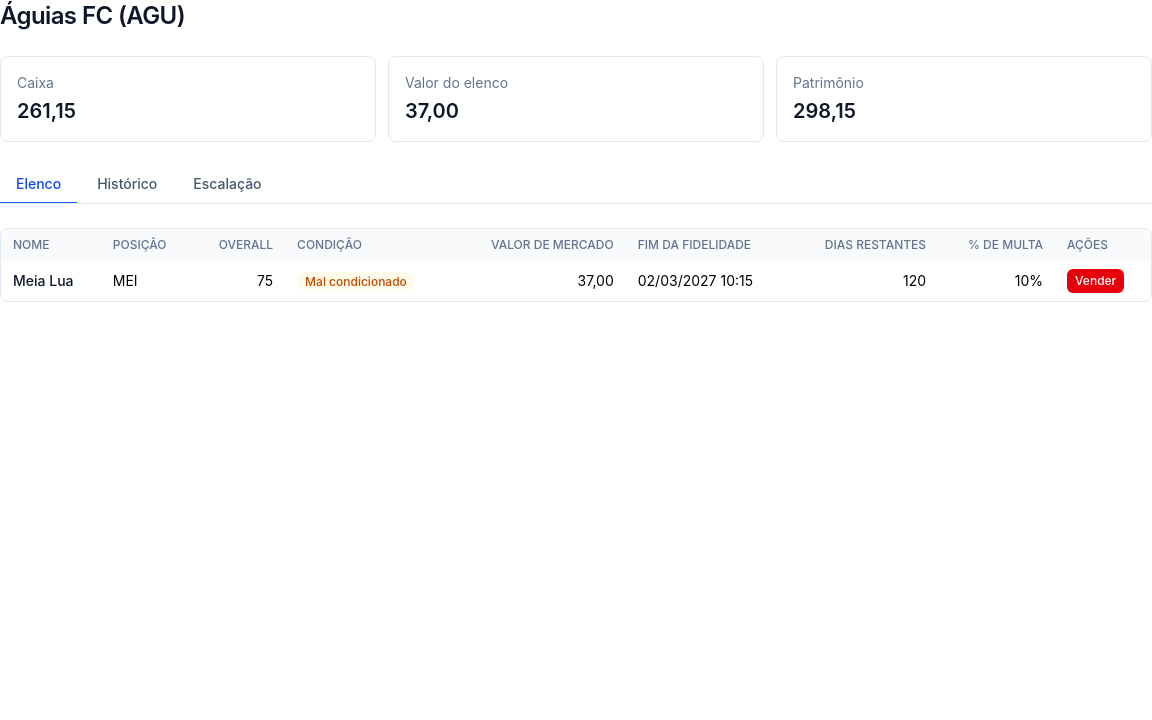
it: ClubPage › vende depois da confirmação, com um só pedido, e mostra o resultado da API
What coordinates should you click on to do the following:
click the button "Vender"
I would click on:
 (1096, 281)
Its box is top-left (1067, 269), bottom-right (1124, 293).
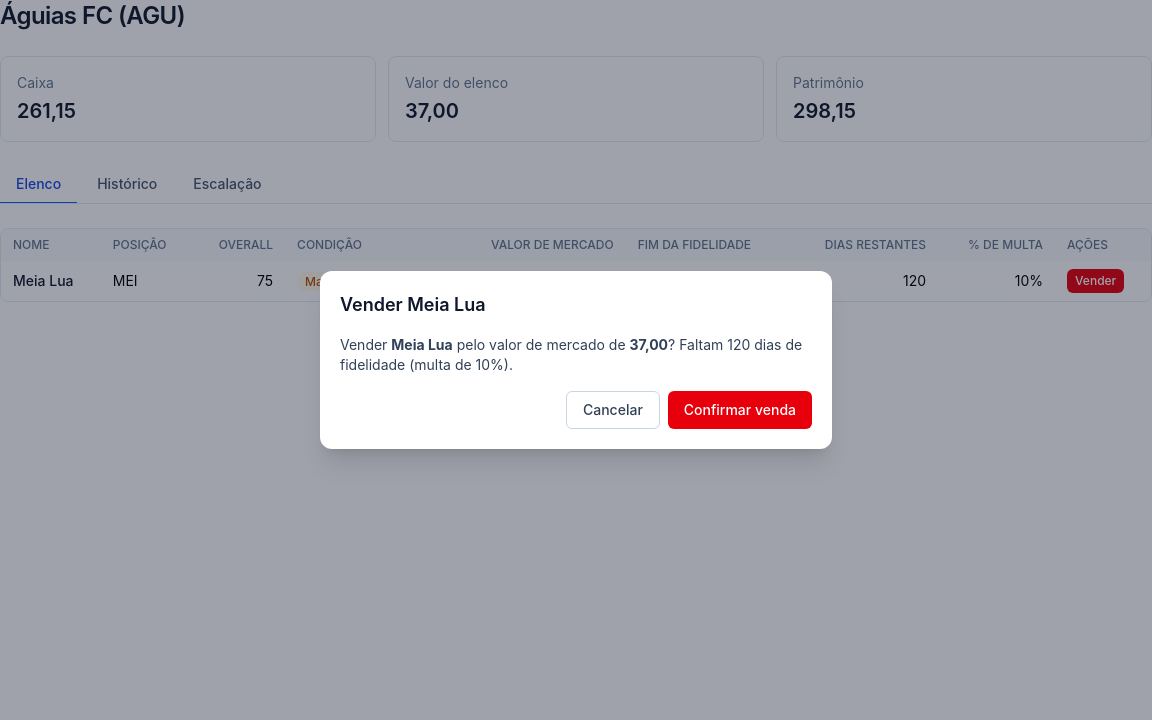
What coordinates should you click on to do the following:
click the button "Confirmar venda"
I would click on:
 (740, 410)
Its box is top-left (668, 391), bottom-right (812, 429).
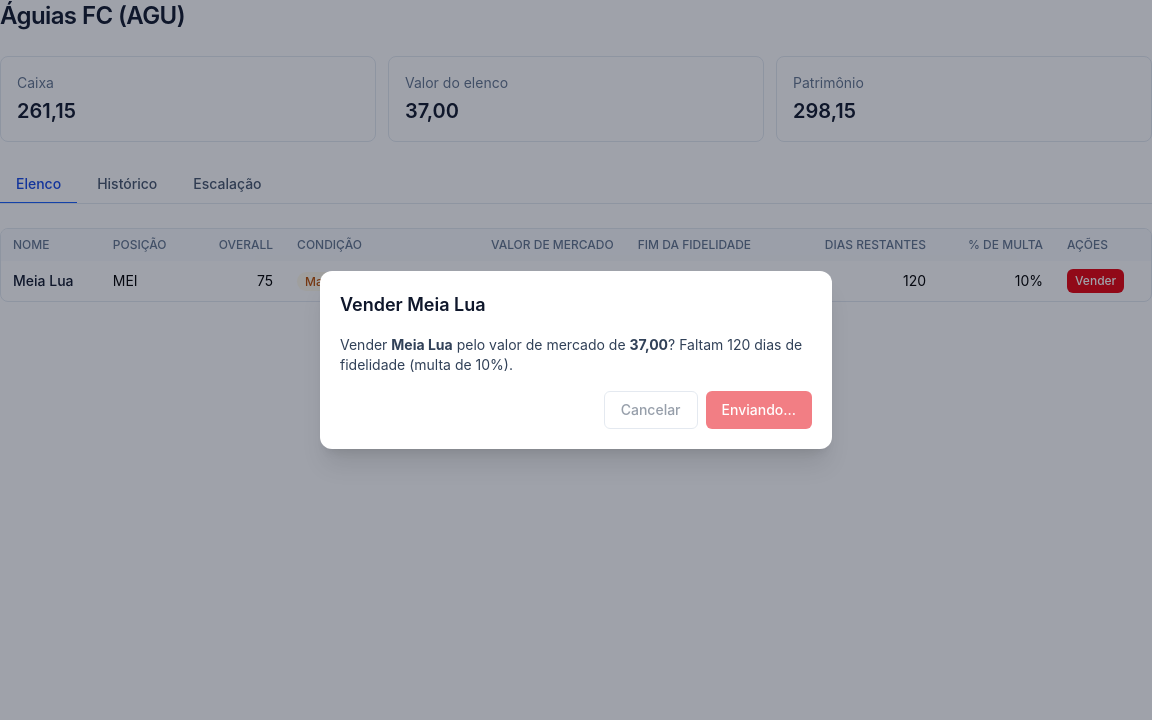
What coordinates should you click on to do the following:
click the button named "Confirmar venda"
I would click on:
 (759, 410)
Its box is top-left (706, 391), bottom-right (812, 429).
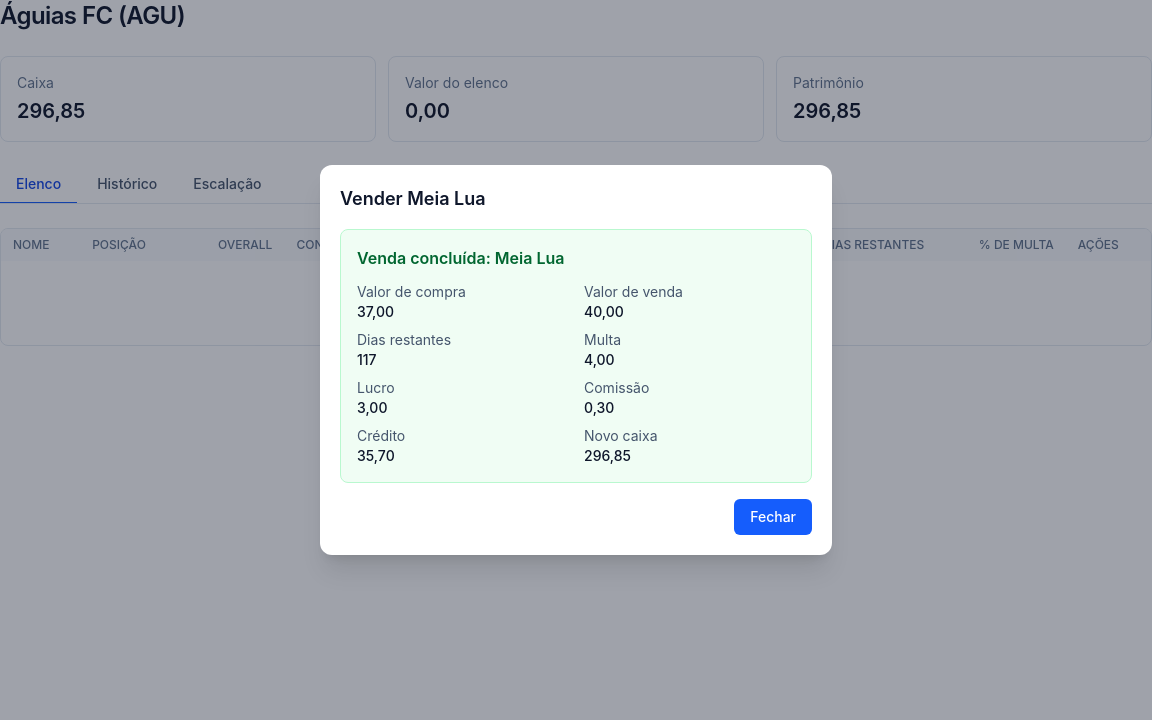
Check: the text "Nenhum jogador no elenco." is shown, box top-left (1, 261), bottom-right (1151, 345)
